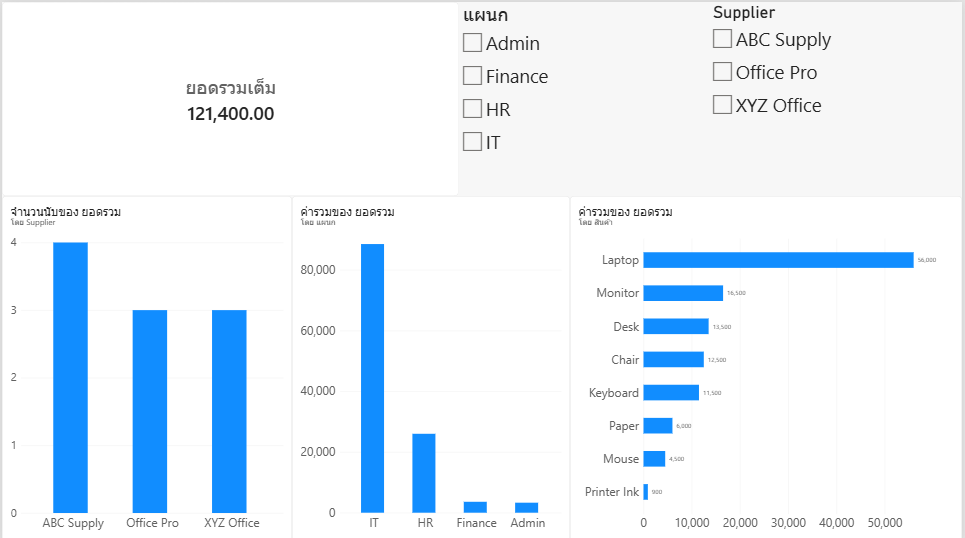

What the dashboard file says about the page in this screenshot:
{"tool":"powerbi","page":{"name":"หน้า 1","canvas":[1920,1080],"ordinal":0},"visuals":[{"type":"cardVisual","fields":{"Data":["Sheet1.ยอดรวมเต็ม"]},"box":[0,0,913.3,388.3],"z":0},{"type":"columnChart","fields":{"Category":["Sheet1.Supplier"],"Y":["CountNonNull(Sheet1.ยอดรวม)"]},"box":[0,388,580,692],"z":1000},{"type":"columnChart","fields":{"Category":["Sheet1.แผนก"],"Y":["Sum(Sheet1.ยอดรวม)"]},"box":[580,388.6,555.7,691.4],"z":2000},{"type":"slicer","fields":{"Values":["Sheet1.แผนก"]},"box":[913.3,0,500,388.3],"z":3000},{"type":"slicer","fields":{"Values":["Sheet1.Supplier"]},"box":[1413.3,0,500,388.3],"z":4000},{"type":"clusteredBarChart","fields":{"Category":["Sheet1.สินค้า"],"Y":["Sum(Sheet1.ยอดรวม)"]},"box":[1135.7,387.1,784.3,692.9],"z":5000}]}

Visuals, with their boxes in screenshot pixels (x1, y1, x2, y2), scaled from the page's 1920x1080 canvas onto the 965x538 screenshot:
cardVisual - Sheet1.ยอดรวมเต็ม: (left=0, top=0, right=459, bottom=193)
columnChart - Sheet1.Supplier x CountNonNull(Sheet1.ยอดรวม): (left=0, top=193, right=292, bottom=537)
columnChart - Sheet1.แผนก x Sum(Sheet1.ยอดรวม): (left=292, top=194, right=571, bottom=537)
slicer - Sheet1.แผนก: (left=459, top=0, right=710, bottom=193)
slicer - Sheet1.Supplier: (left=710, top=0, right=962, bottom=193)
clusteredBarChart - Sheet1.สินค้า x Sum(Sheet1.ยอดรวม): (left=571, top=193, right=964, bottom=537)
